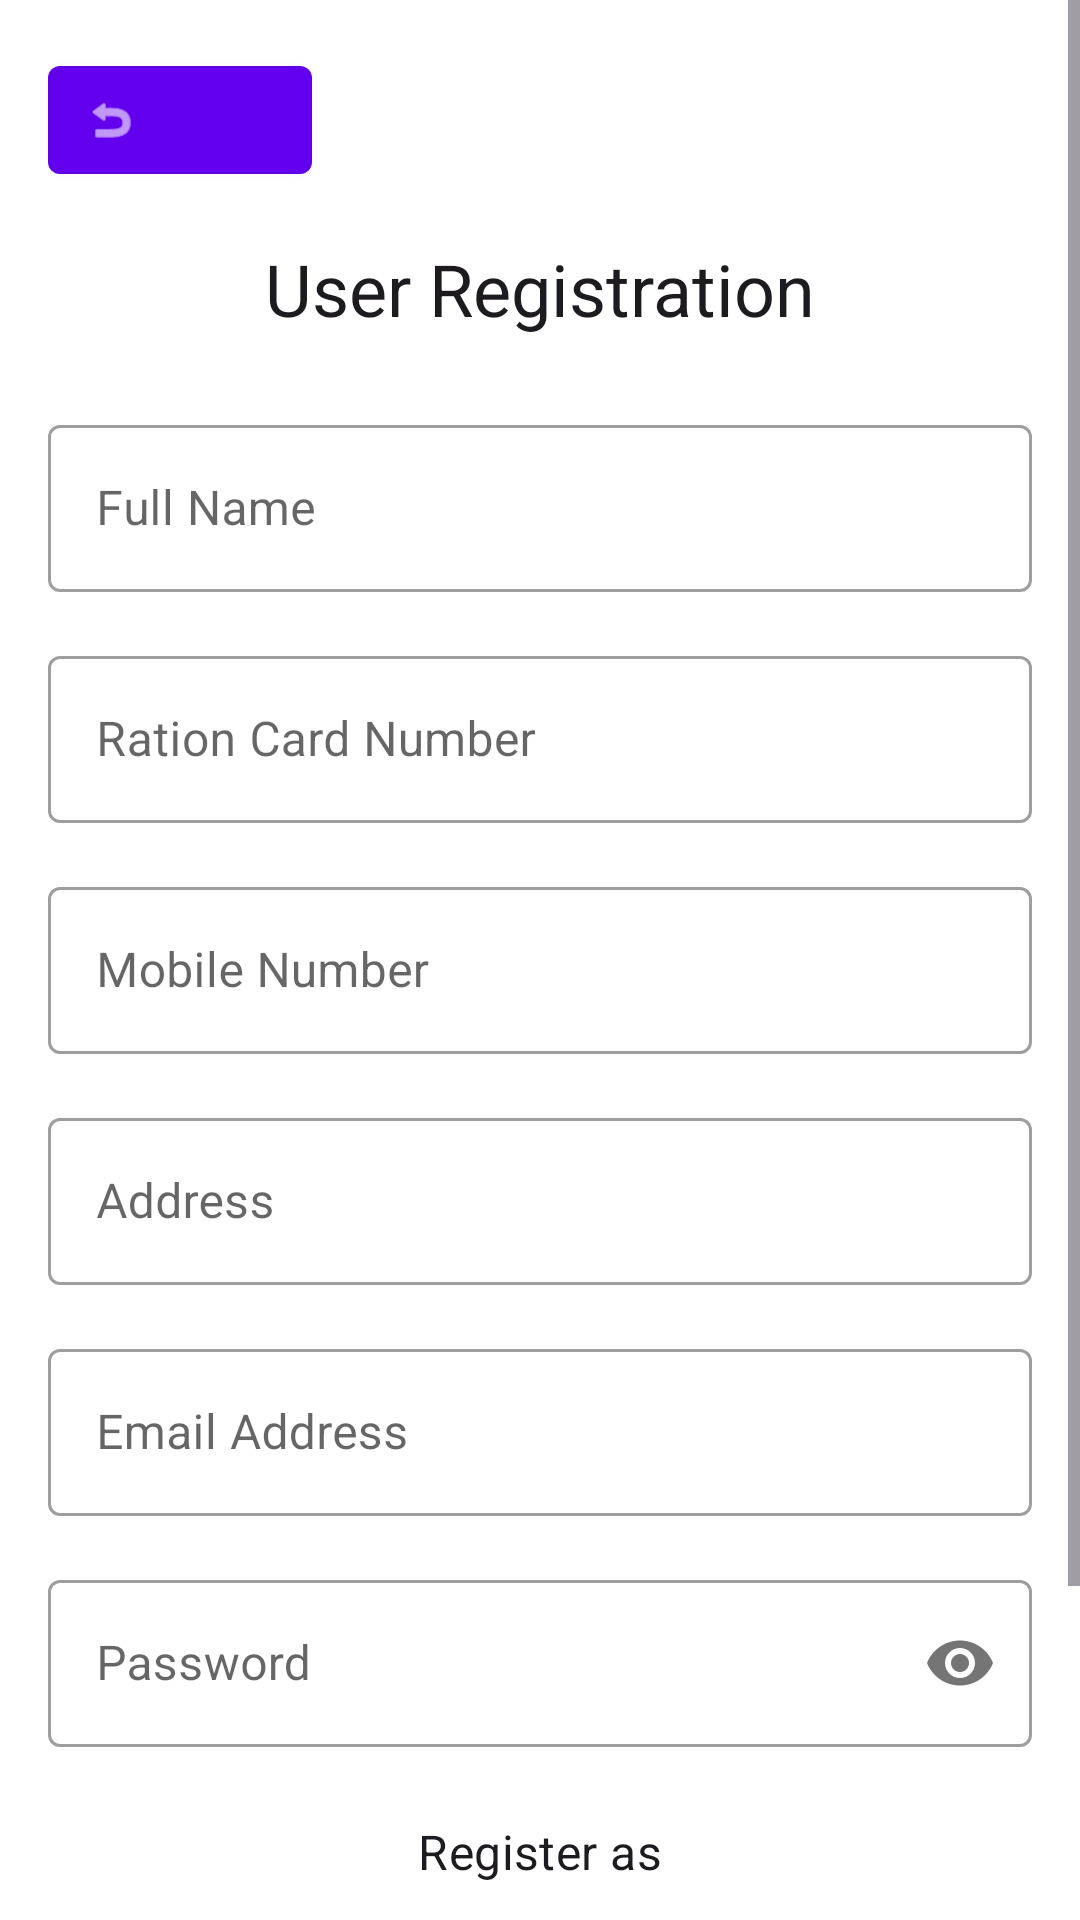

Point at icon controls on the screen. Image size 1080 x 1920, points as (x,y).
Back: (180,120)
